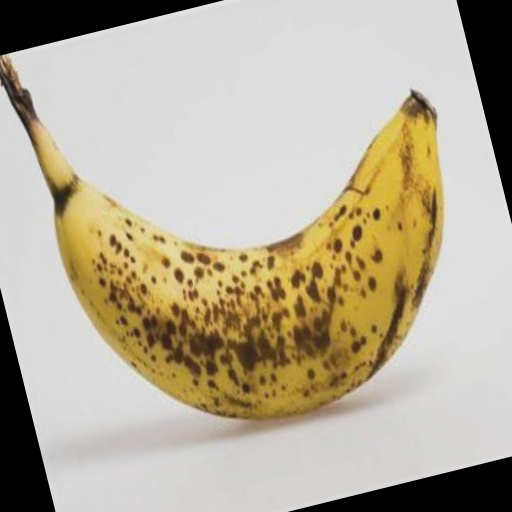fruit: (0, 51, 18, 65)
